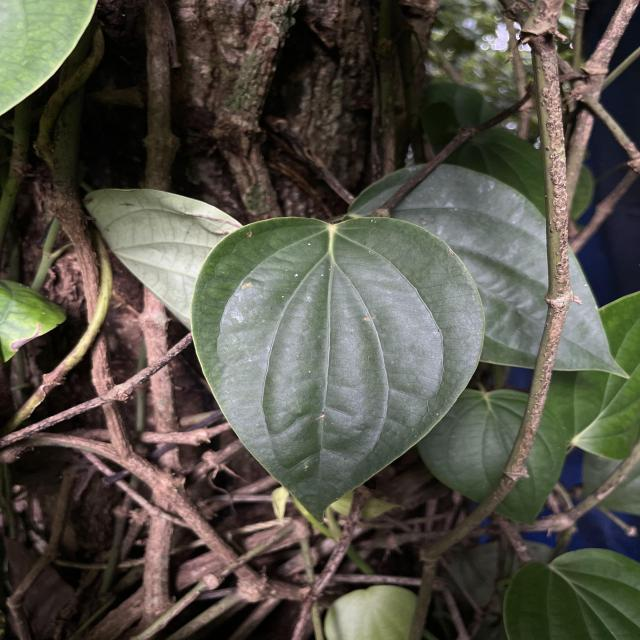Piper nigrum: (188, 214, 488, 528)
